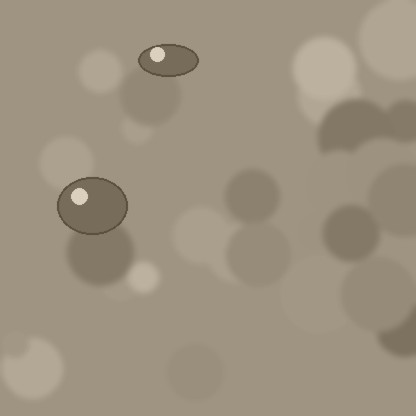gota: (57, 179, 127, 239), (138, 45, 198, 79)
